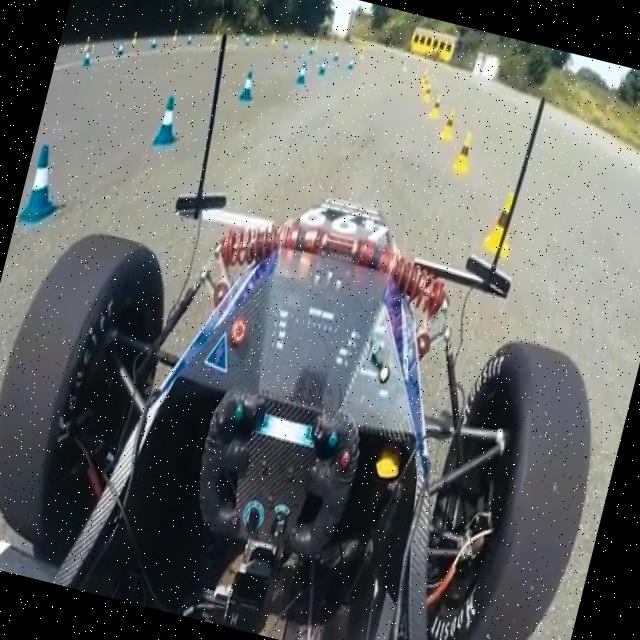blue_cone: (15, 139, 74, 233), (150, 92, 186, 148), (235, 66, 259, 105), (294, 58, 310, 87), (316, 57, 329, 80)
yellow_cone: (478, 185, 526, 259), (452, 129, 476, 174), (439, 105, 460, 142), (427, 94, 446, 122)
